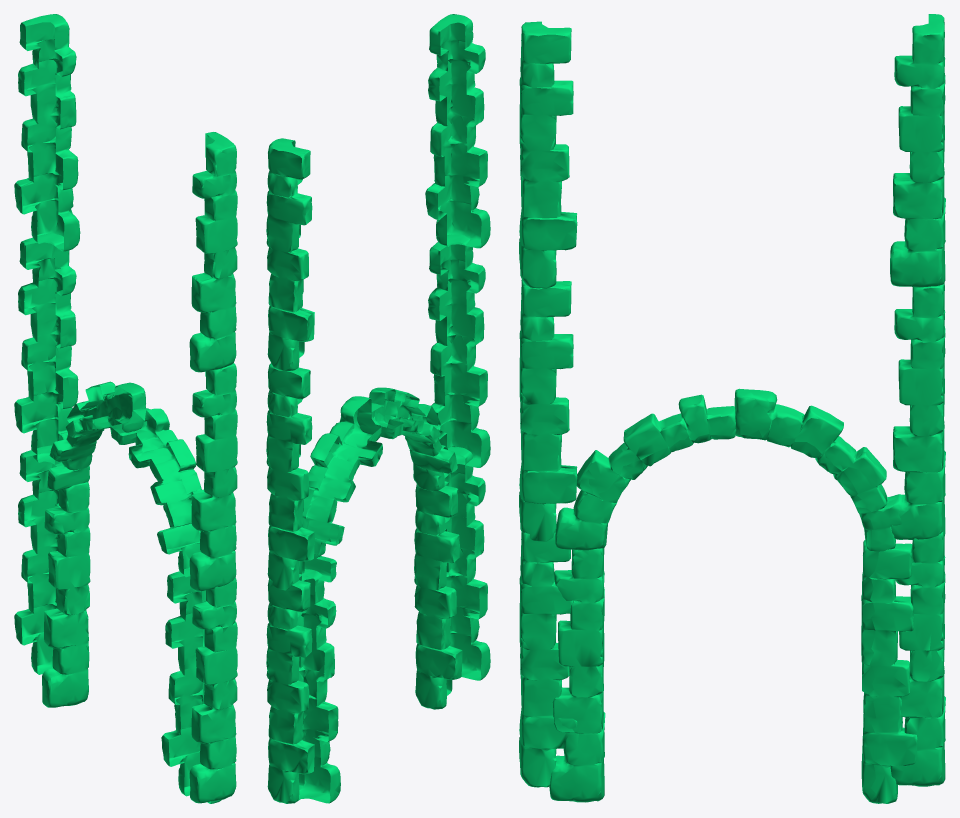
File: InfernoRocks.fbx
3 views of the same model, side by side, from view 1: azimuth 30°, elevation 25°; view 2: azimuth 150°, elevation 25°; view 3: azimuth 270°, elevation 25° (orthographic). The views are drawn at different scales.
Parts seen in each view (by area): view 1: node000_world_lr0_agg184_513_inferno_stone_wall_09_trim.109; view 2: node000_world_lr0_agg184_513_inferno_stone_wall_09_trim.109; view 3: node000_world_lr0_agg184_513_inferno_stone_wall_09_trim.109.
Part boxes in pixels (bbox=[...]): node000_world_lr0_agg184_513_inferno_stone_wall_09_trim.109: bbox=[14, 14, 237, 803]; node000_world_lr0_agg184_513_inferno_stone_wall_09_trim.109: bbox=[266, 14, 490, 803]; node000_world_lr0_agg184_513_inferno_stone_wall_09_trim.109: bbox=[519, 14, 945, 803].
Bounding box in the file's own units: 70.84 × 990 × 497.
